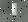person: (14, 4, 21, 16)
